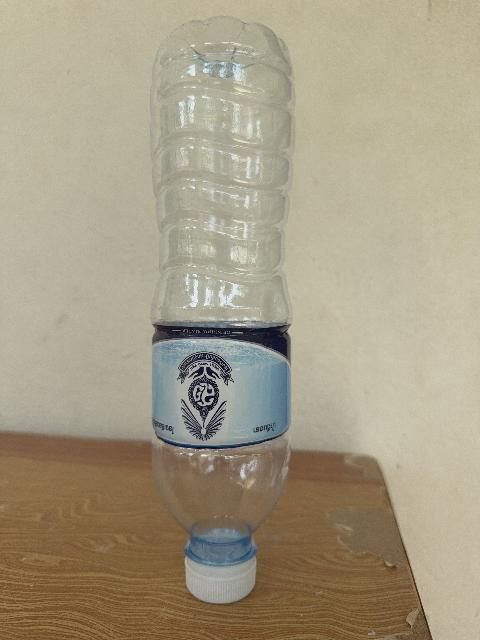bottle: (151, 17, 294, 602)
